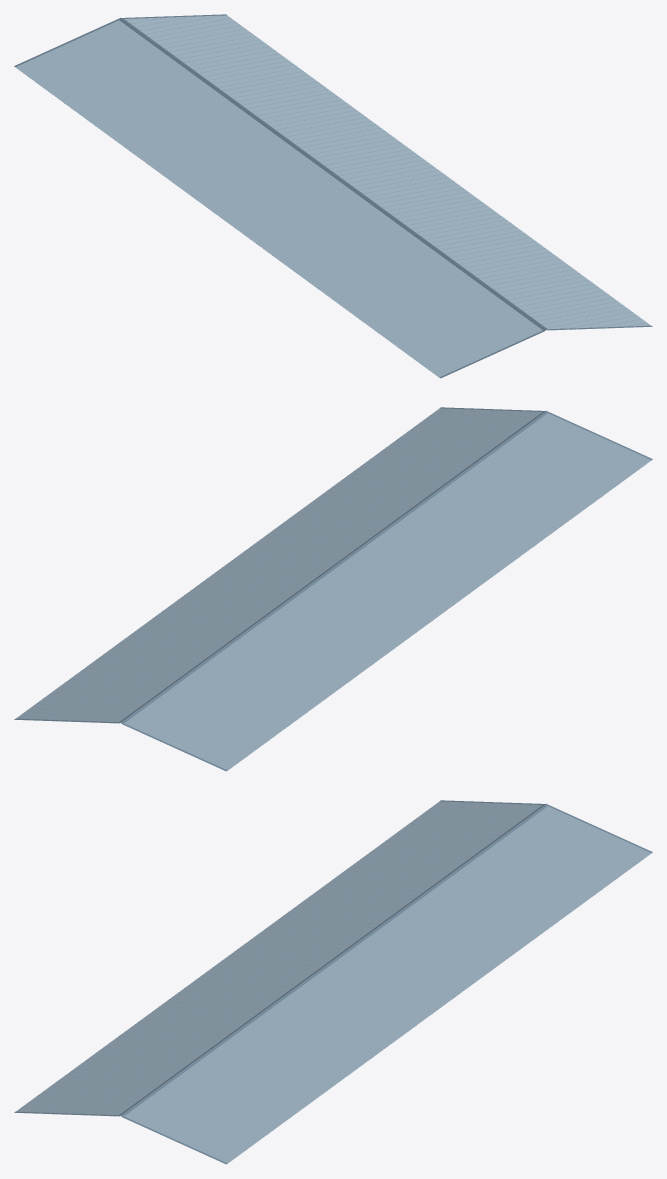
Rendered from atap.glb.
The picture shows the model from 3 angles, top to bottom: view 1: azimuth 30°, elevation 25°; view 2: azimuth 150°, elevation 25°; view 3: azimuth 330°, elevation 25°; orthographic projection.
Parts seen in each view (by area): view 1: atap; view 2: atap; view 3: atap.
Boxes of the visible parts, box(x1,y1,x2,y2) form: atap: box(14, 14, 652, 378); atap: box(14, 407, 652, 771); atap: box(14, 800, 652, 1164).
Size of the model in its own units: 17.27 by 1.8 by 60.09.
